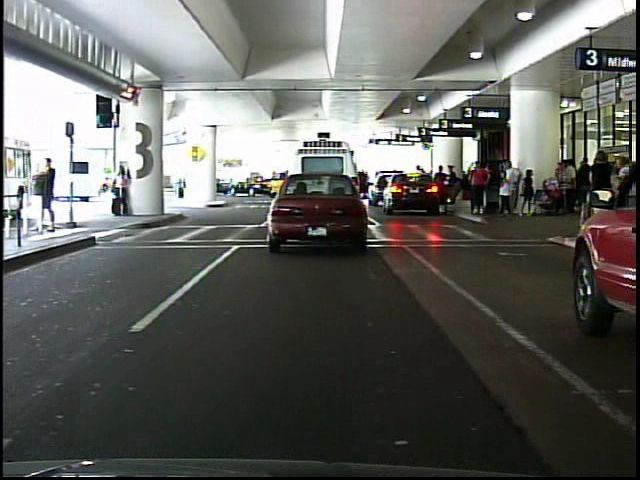person: (582, 147, 619, 233), (36, 151, 61, 236), (111, 160, 133, 218), (166, 159, 193, 203), (470, 161, 489, 218)
